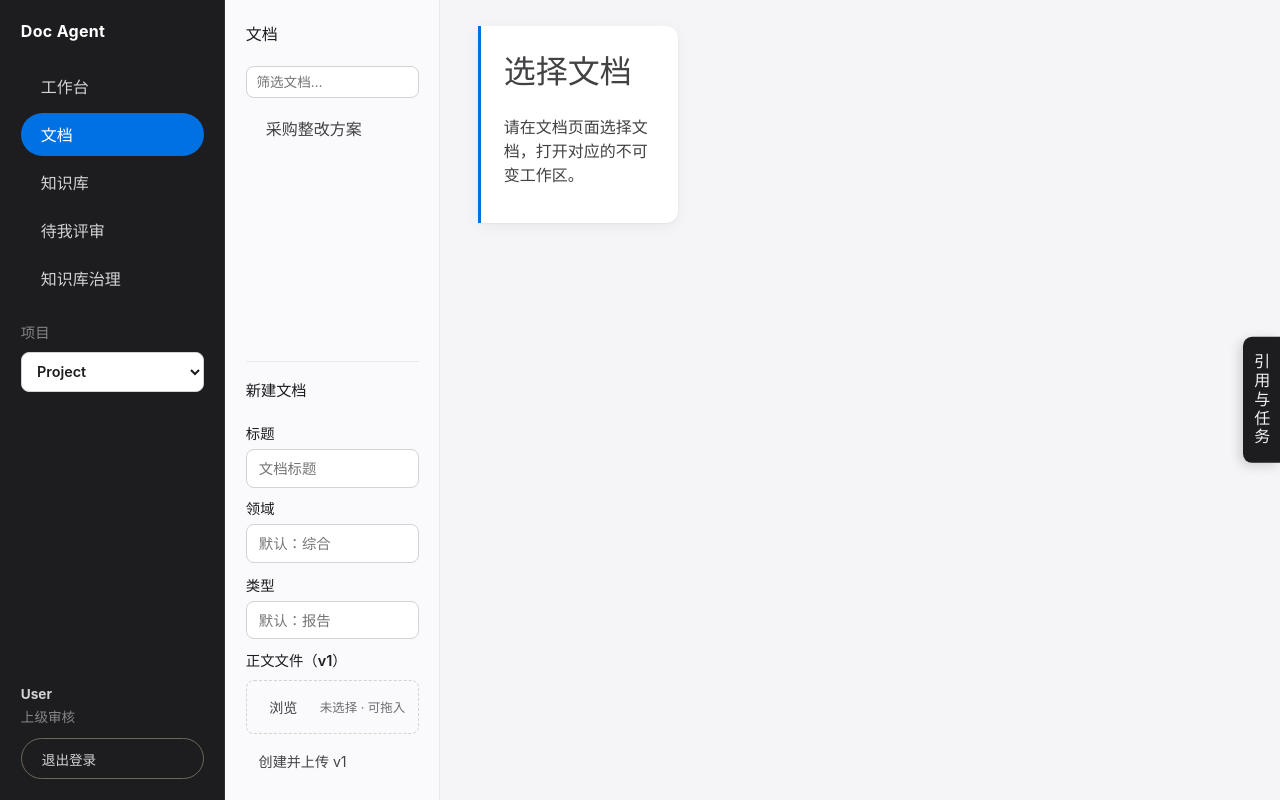
Test: document and review workspace boundaries › preserves review opinion drafts after a workflow revision conflict
Click the button "采购整改方案": click(332, 128) x1=246 y1=106 x2=419 y2=150
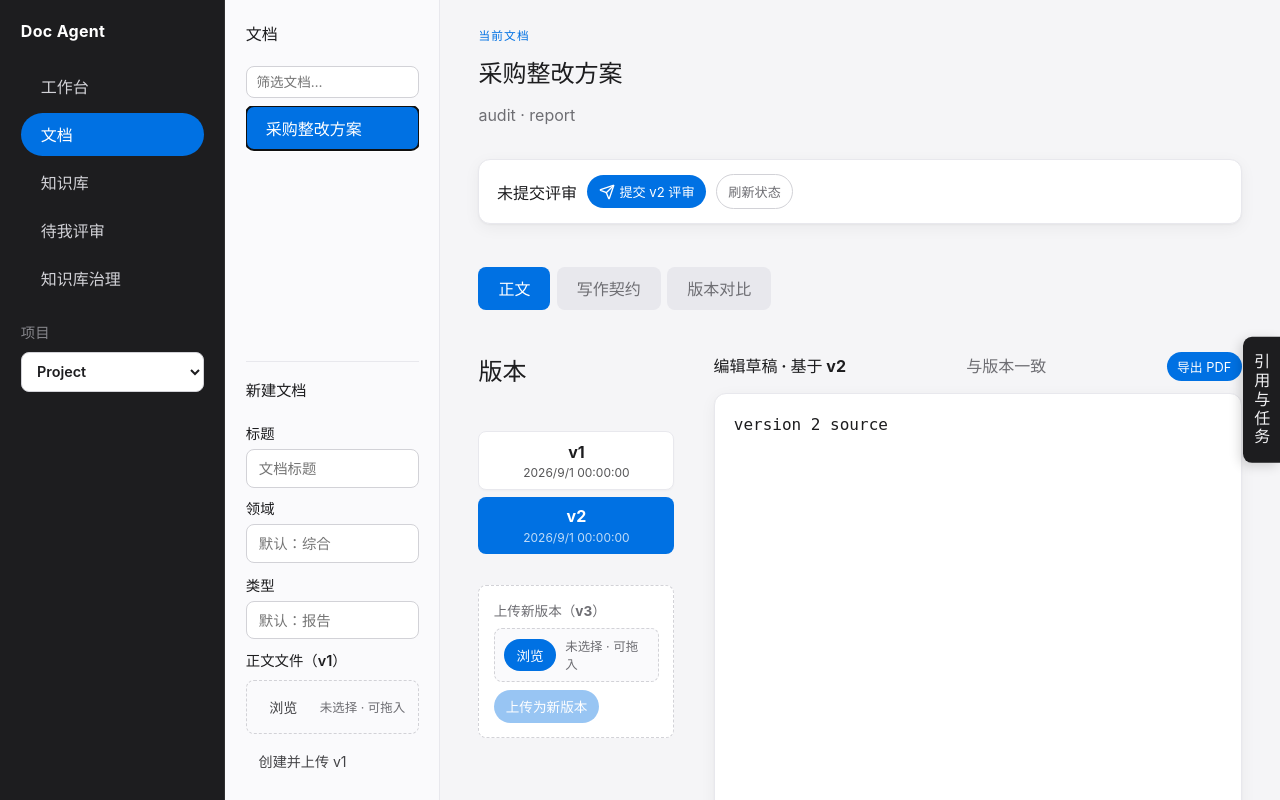
Click the button "待我评审": click(112, 230) x1=21 y1=209 x2=204 y2=252
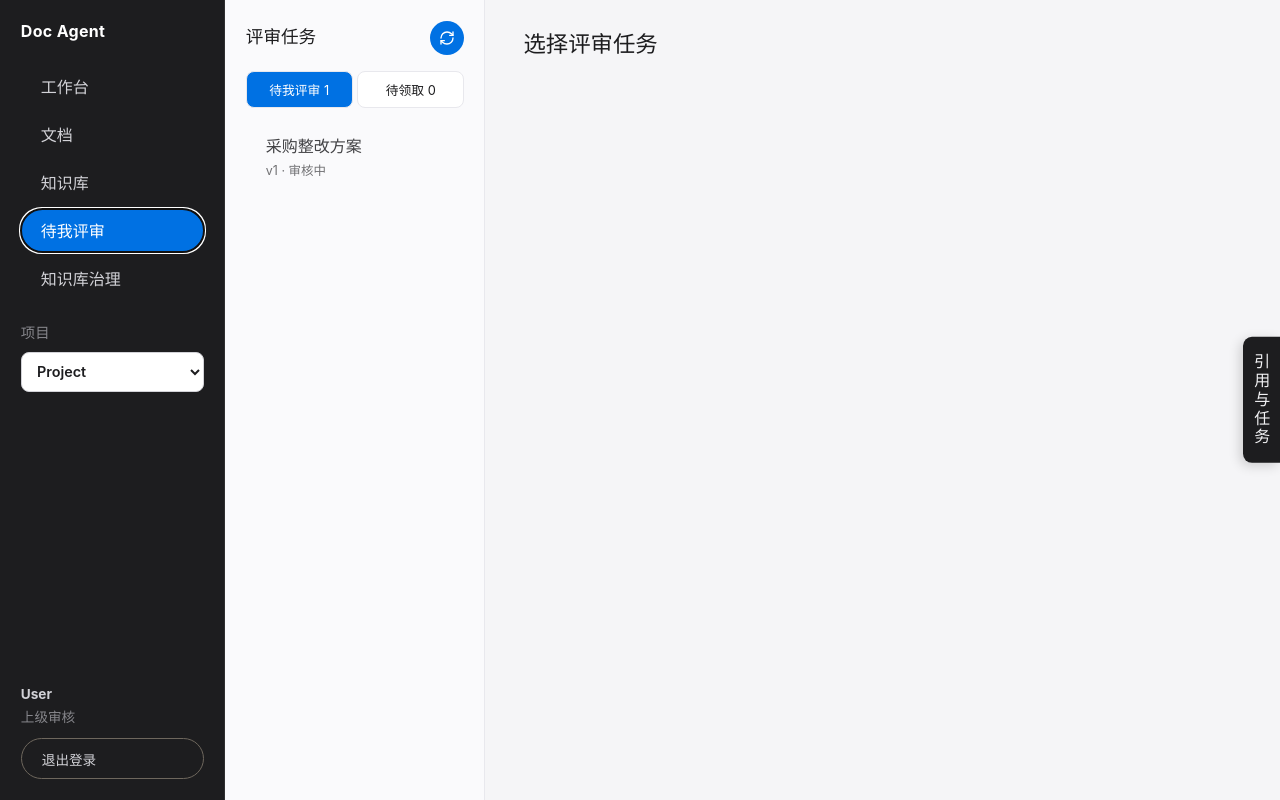
Click the button "采购整改方案 v1 · 审核中": click(355, 156) x1=246 y1=124 x2=464 y2=189
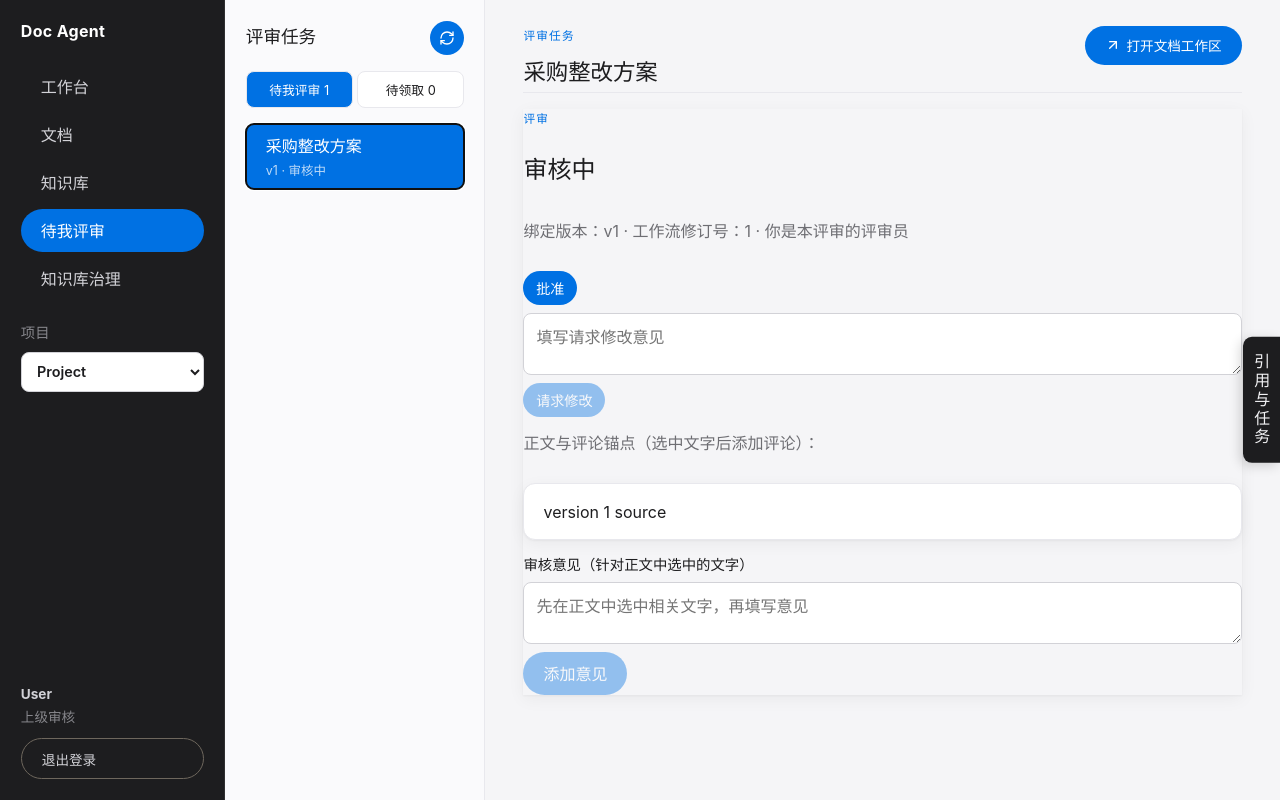
In the text box labelled "请求修改意见": (882, 344) x1=523 y1=313 x2=1242 y2=375, type "keep this opinion"
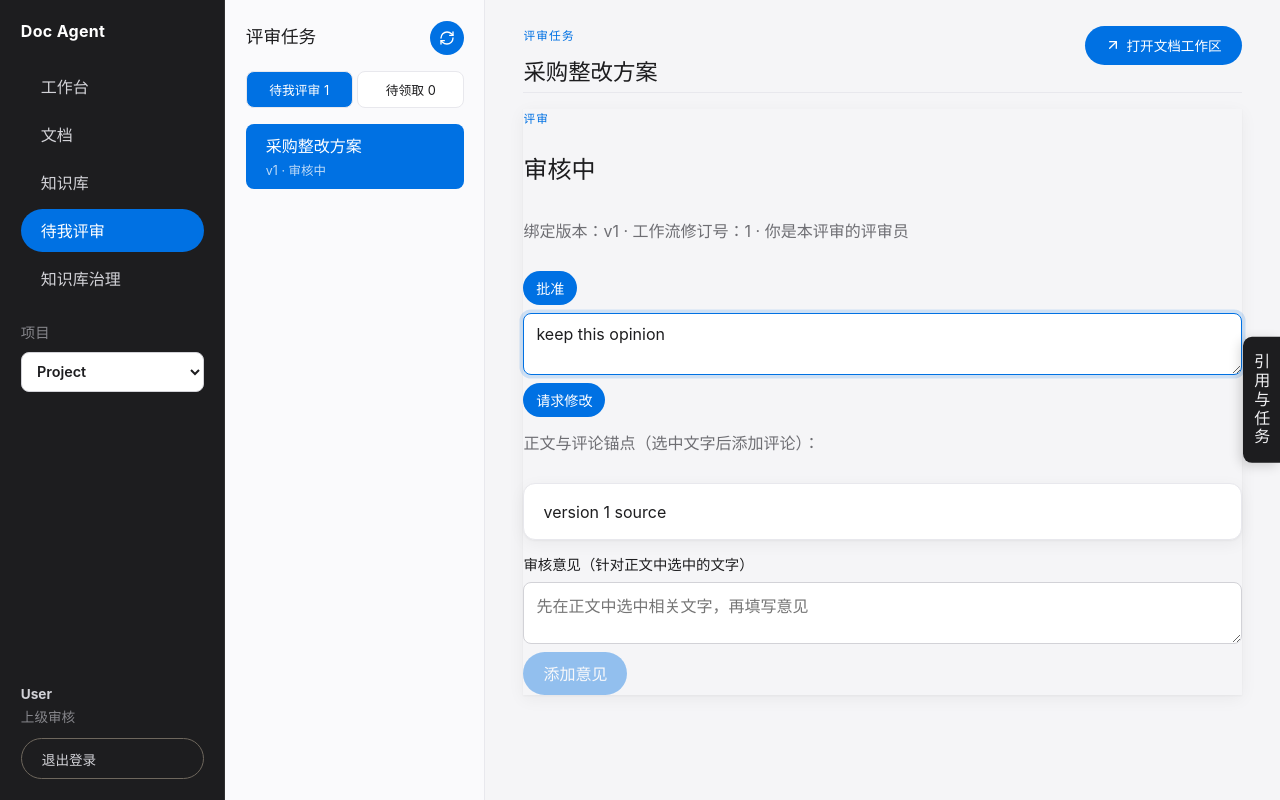
Click the button "批准": click(550, 288) x1=523 y1=271 x2=577 y2=305
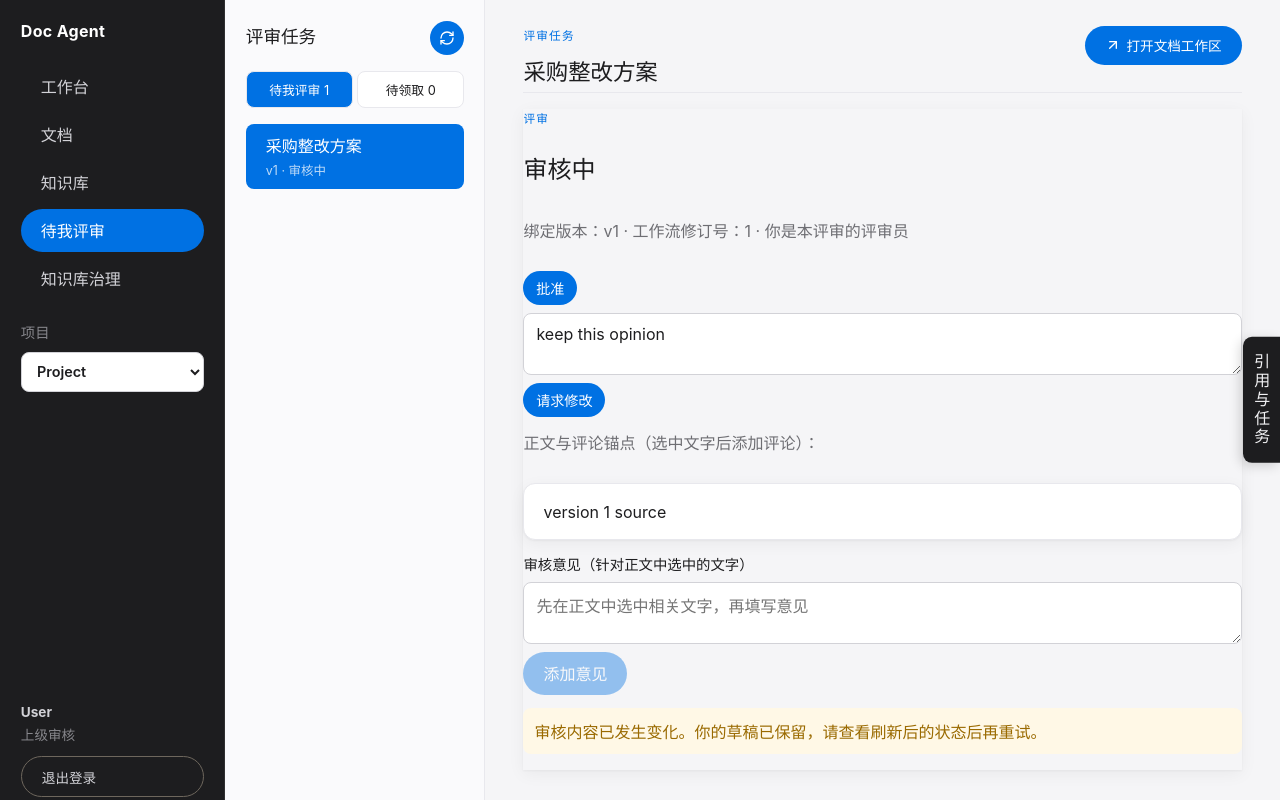
Check: the text "审核内容已发生变化。你的草稿已保留，请查看刷新后的状态后再重试。" is shown, box x1=523 y1=708 x2=1242 y2=754
